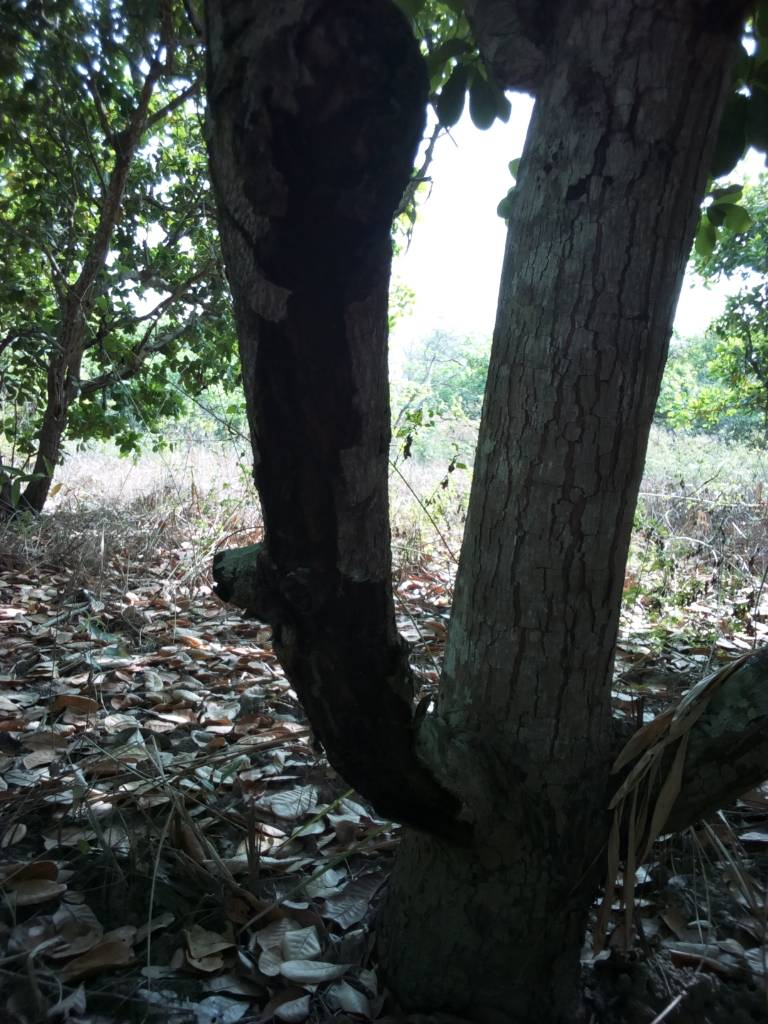Termites: (490, 164, 622, 775), (396, 836, 572, 1024)
